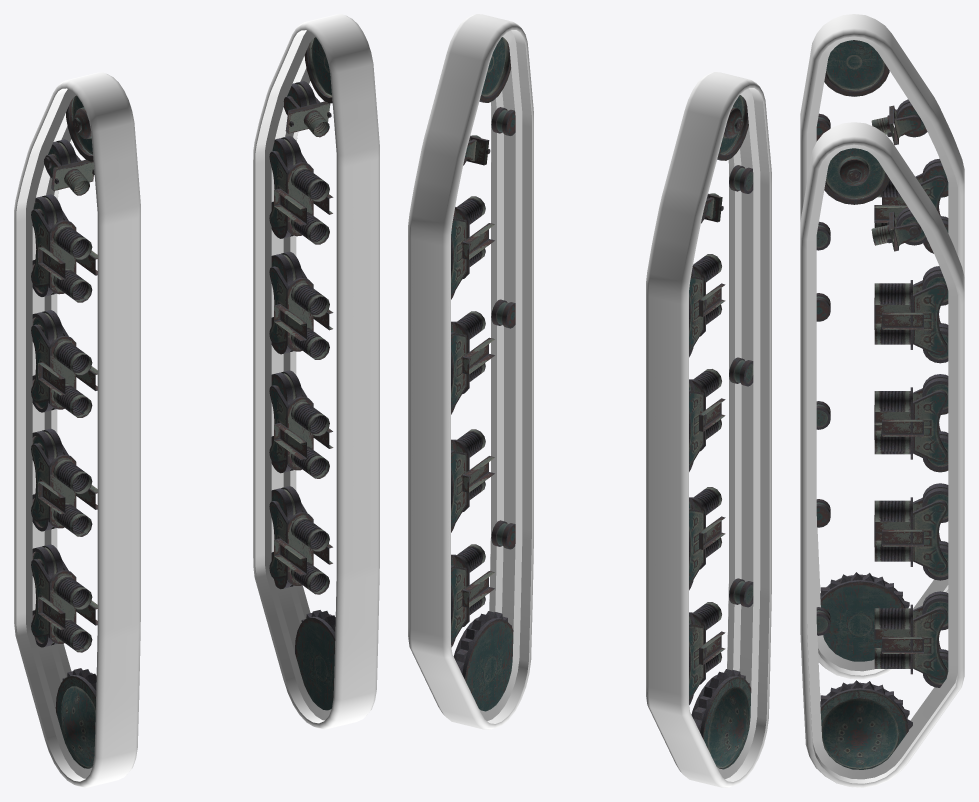
The model's file is Chassis.glb.
The picture shows the model from 3 angles, left to right: view 1: azimuth 30°, elevation 25°; view 2: azimuth 150°, elevation 25°; view 3: azimuth 270°, elevation 25°; orthographic projection. The views are drawn at different scales.
Parts seen in each view (by area): view 1: set_3_group_0, set_2_group_0, set_1_group_0, set_0_group_0; view 2: set_3_group_0, set_2_group_0, set_0_group_0, set_1_group_0; view 3: set_0_group_0, set_2_group_0, set_1_group_0, set_3_group_0.
Part boxes in pixels (left/top/right/bottom): set_3_group_0: left=14, top=72, right=140, bottom=787; set_2_group_0: left=253, top=14, right=379, bottom=729; set_1_group_0: left=31, top=95, right=97, bottom=768; set_0_group_0: left=269, top=37, right=335, bottom=710; set_3_group_0: left=646, top=72, right=771, bottom=787; set_2_group_0: left=408, top=14, right=533, bottom=729; set_0_group_0: left=451, top=37, right=515, bottom=711; set_1_group_0: left=689, top=95, right=753, bottom=769; set_0_group_0: left=816, top=148, right=948, bottom=769; set_2_group_0: left=800, top=122, right=964, bottom=787; set_1_group_0: left=816, top=40, right=948, bottom=661; set_3_group_0: left=800, top=14, right=964, bottom=679.
Size of the model in its own units: 1.85 by 4.43 by 1.01.
Materials: 4 (2 with a texture image).
